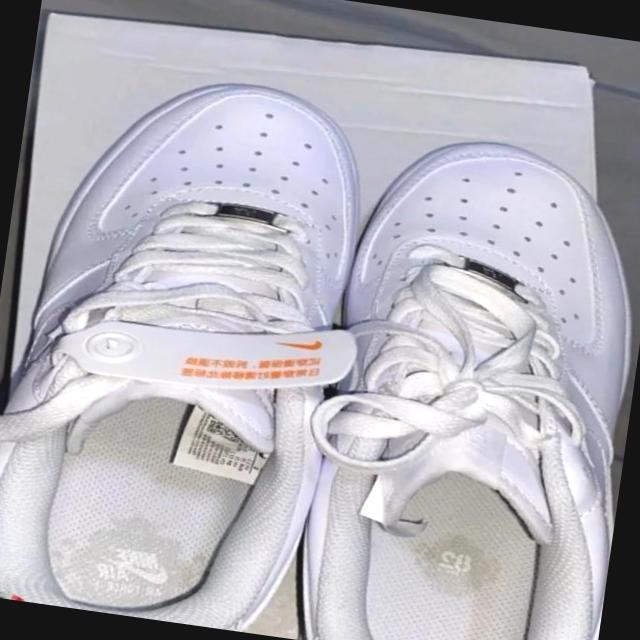nike_fake_airforce: (0, 54, 379, 640), (296, 17, 640, 640)
